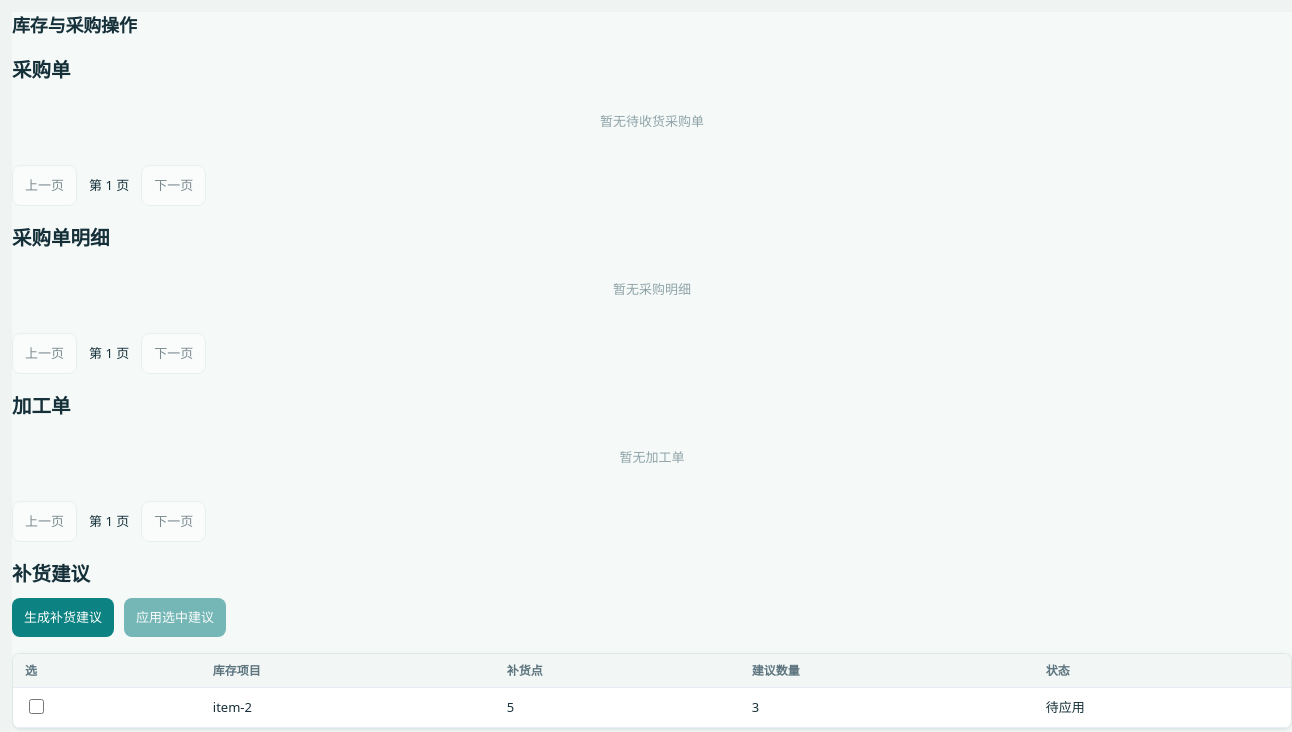
Test: InventoryWorkflowPage › reports replenishment apply failures
The image size is (1292, 732).
Click the checkbox at (36, 707), box [29,700,44,714]
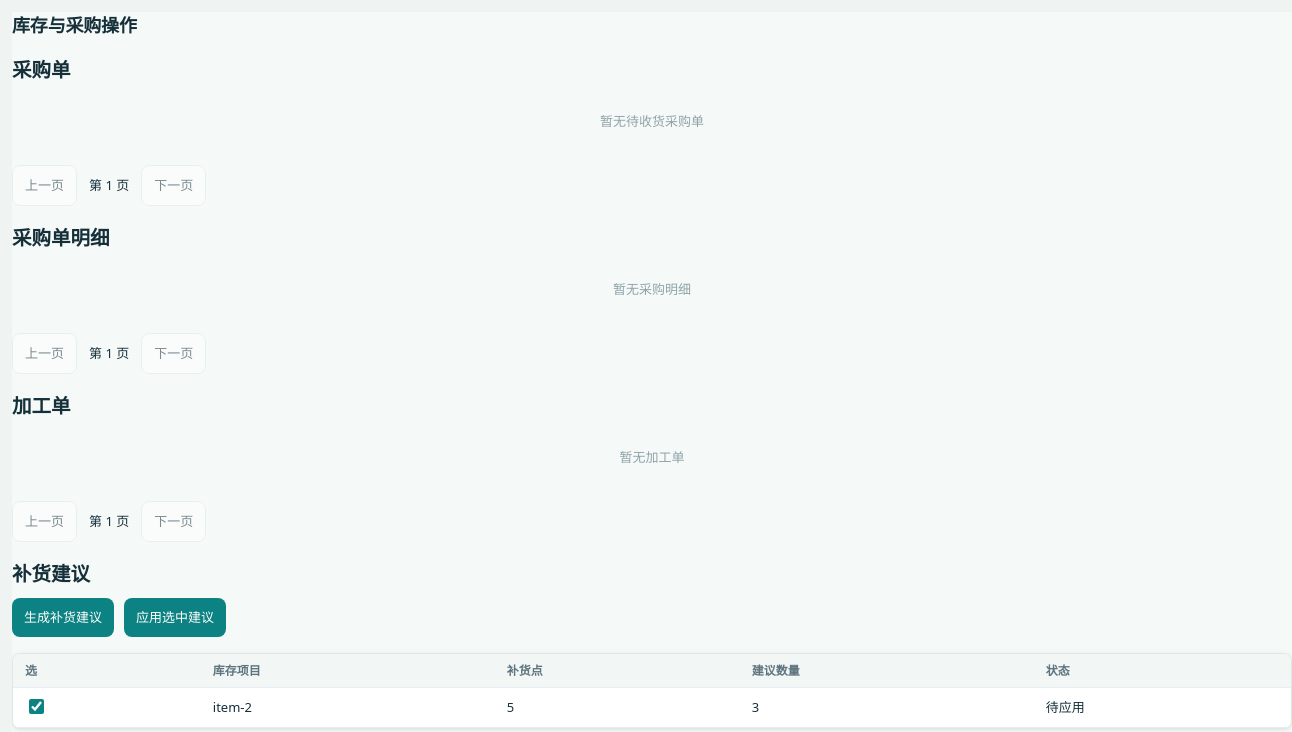
Click the button "应用选中建议" at (175, 618), box [124,598,226,637]
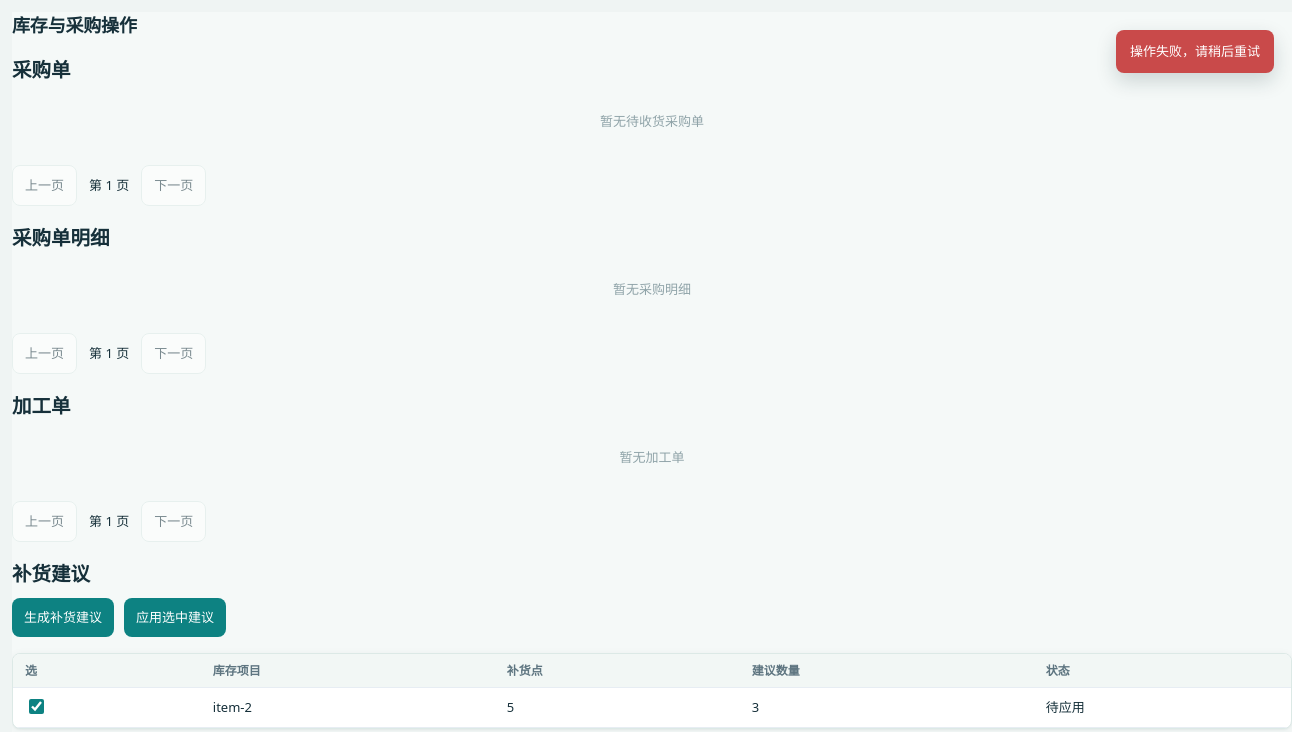
Check: the text "操作失败，请稍后重试" is shown, box [1116,30,1274,73]
